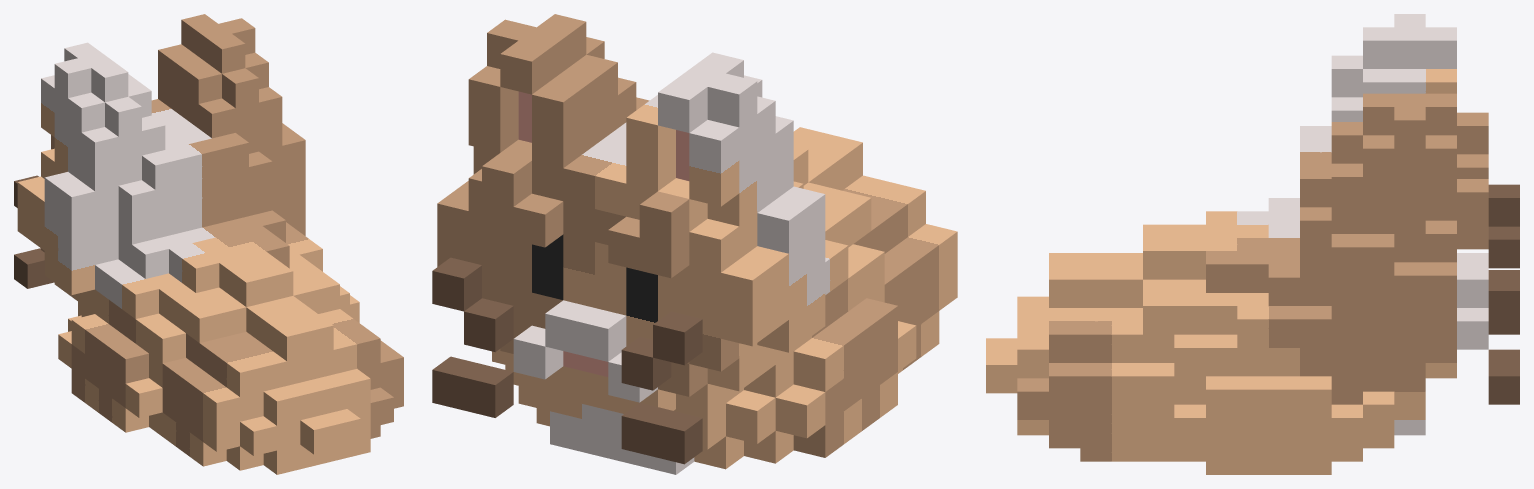
The model's file is ginger_legend-1.fbx.
3 renders of one model, left to right at view 1: azimuth 30°, elevation 25°; view 2: azimuth 150°, elevation 25°; view 3: azimuth 270°, elevation 25°, orthographic. The views are drawn at different scales.
Parts seen in each view (by area): view 1: ginger_legend-1.001; view 2: ginger_legend-1.001; view 3: ginger_legend-1.001.
Boxes of the visible parts, box(x1,y1,x2,y2) form: ginger_legend-1.001: box(14, 14, 403, 474); ginger_legend-1.001: box(432, 14, 957, 474); ginger_legend-1.001: box(986, 14, 1519, 474).
Size of the model in its own units: 1 by 1.2 by 1.7.
1 material, 1 textured.
